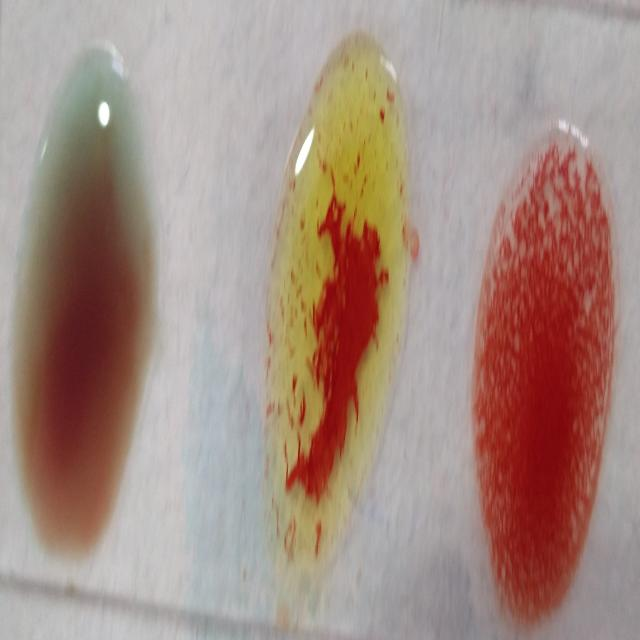B: (271, 24, 408, 577)
D: (476, 136, 612, 630)
